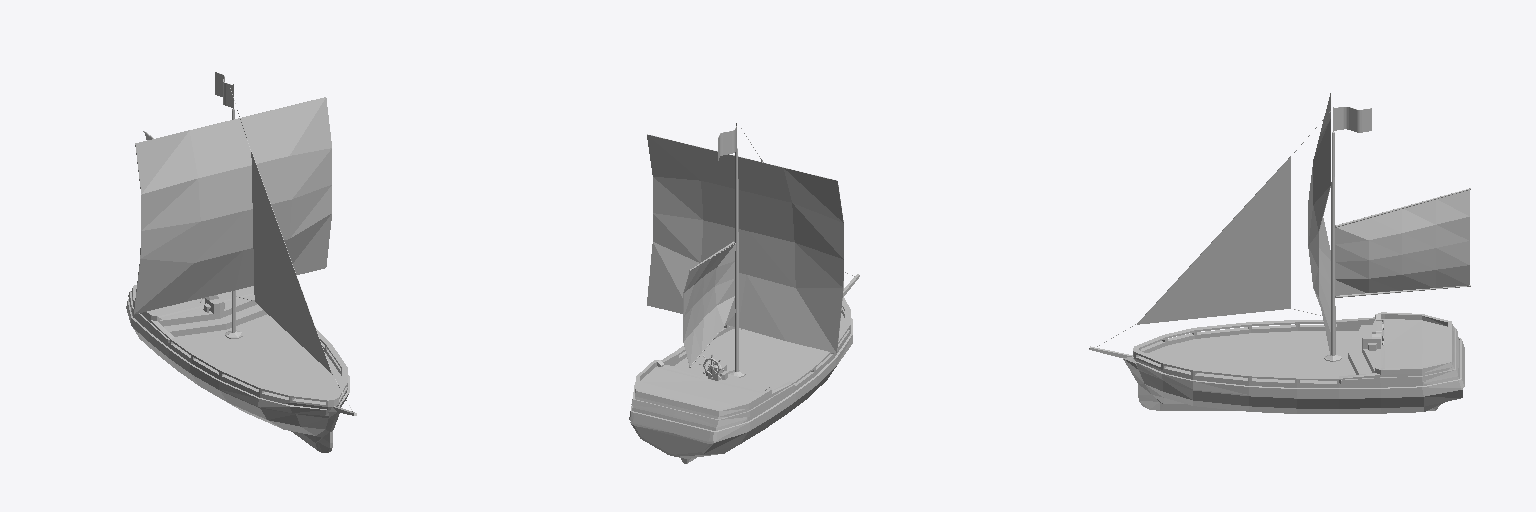
Rendered from destroyer.obj.
3 renders of one model, left to right at view 1: azimuth 30°, elevation 25°; view 2: azimuth 150°, elevation 25°; view 3: azimuth 270°, elevation 25°, orthographic.
Visible parts, largest first — view 1: Sail, Body; view 2: Sail, Body, Mast; view 3: Body, Sail, Mast.
Part boxes in pixels (left/top/right/bottom): Sail: left=134, top=72, right=352, bottom=411; Body: left=126, top=285, right=356, bottom=452; Sail: left=647, top=126, right=854, bottom=366; Body: left=629, top=274, right=859, bottom=463; Mast: left=689, top=123, right=738, bottom=371; Body: left=1089, top=312, right=1464, bottom=413; Sail: left=1097, top=93, right=1469, bottom=355; Mast: left=1331, top=107, right=1470, bottom=355.
Bounding box in the file's own units: 5.27 × 7.96 × 9.1.